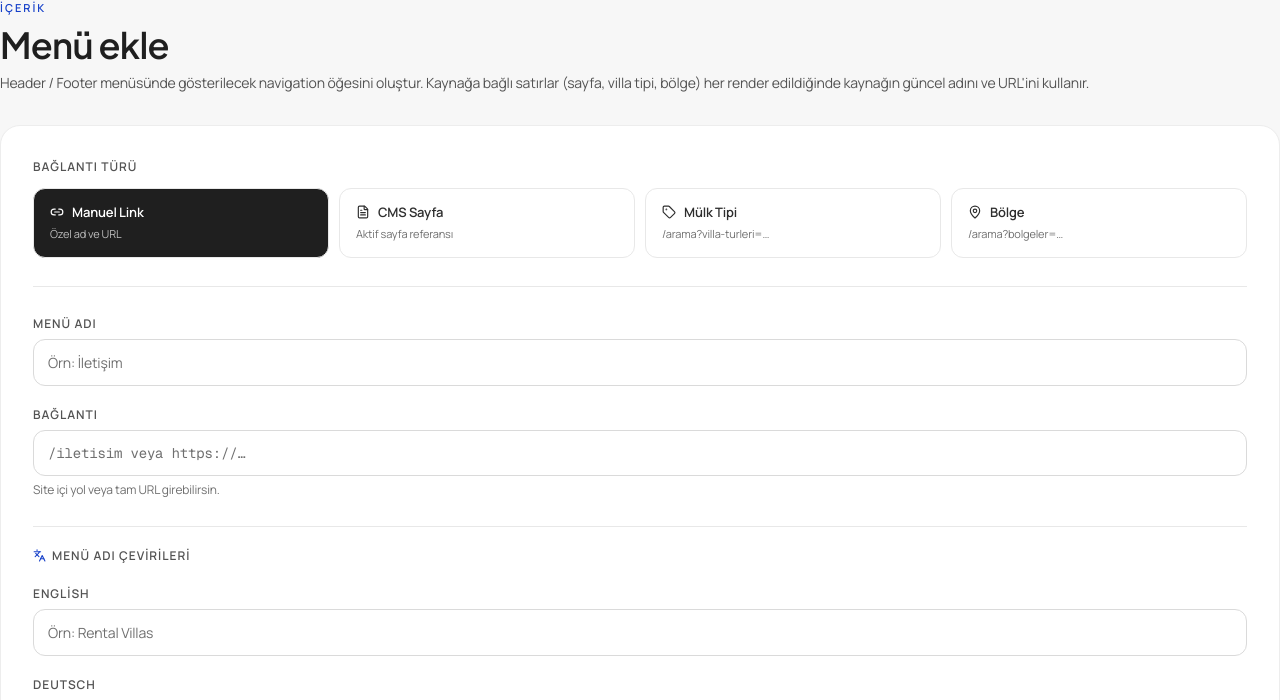
Test case: /maki-admin/menu/new — TR + EN + DE › 17-1) 'Mülk Tipi' türü seçilince EN/DE alanları GİZLENİR
The image size is (1280, 700).
Expected: the field named "English" is shown, [33,608,1247,656]
Click the text "Mülk Tipi" at (711, 212), box [684,202,737,222]
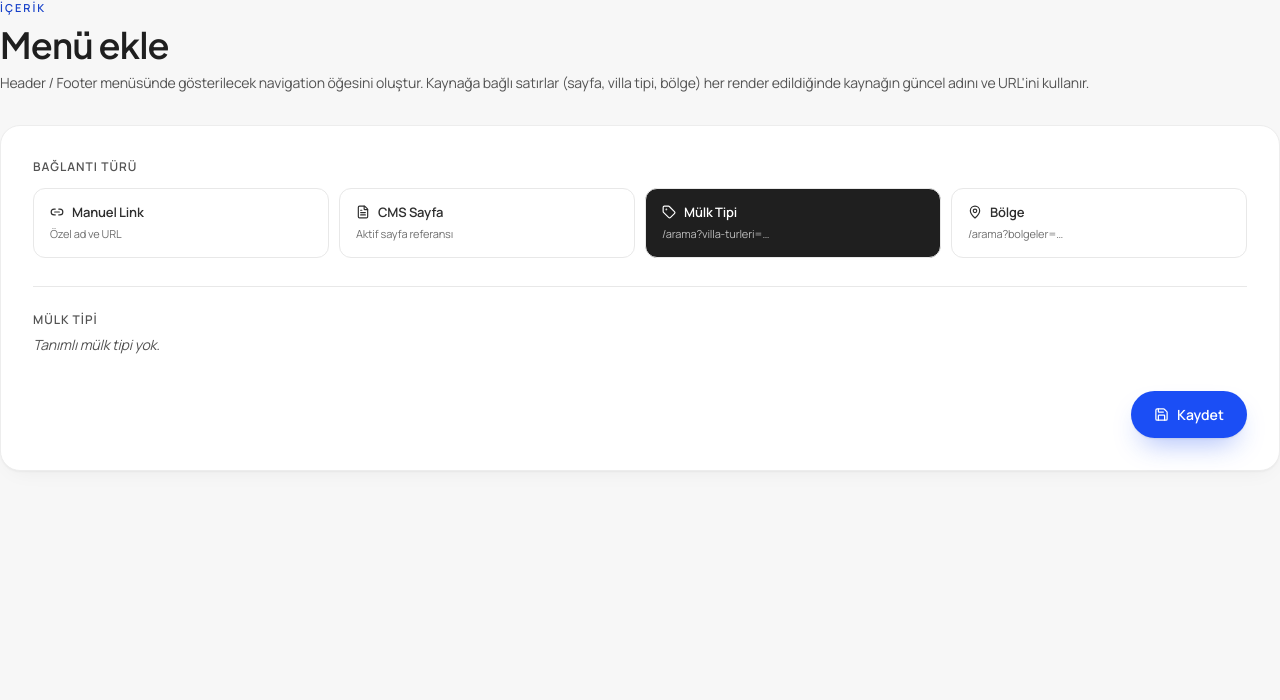
Expected: the label labelled "English" is gone
Expected: the label labelled "Deutsch" is gone
